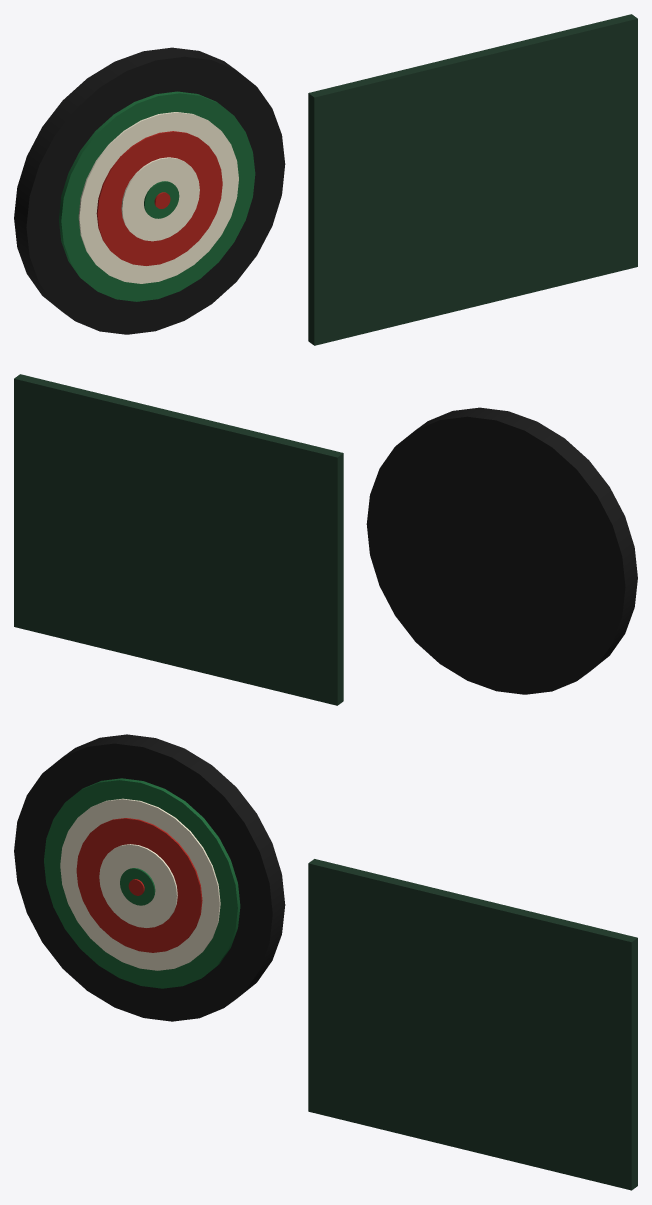
Rendered from dartboard.glb.
3 renders of one model, top to bottom at view 1: azimuth 30°, elevation 25°; view 2: azimuth 150°, elevation 25°; view 3: azimuth 330°, elevation 25°, orthographic.
Visible parts, largest first — view 1: part-chalkboard, part-backing, part-dart-#f0e8d0, part-dart-#1f6a3a, part-dart-#b3261e; view 2: part-chalkboard, part-backing; view 3: part-chalkboard, part-backing, part-dart-#f0e8d0, part-dart-#1f6a3a, part-dart-#b3261e.
Boxes of the visible parts, <box> form: part-chalkboard: <box>308,14,637,345</box>; part-backing: <box>14,47,285,334</box>; part-dart-#f0e8d0: <box>78,112,238,283</box>; part-dart-#1f6a3a: <box>59,91,255,301</box>; part-dart-#b3261e: <box>96,131,222,265</box>; part-chalkboard: <box>14,374,343,705</box>; part-backing: <box>366,407,637,694</box>; part-chalkboard: <box>308,859,637,1190</box>; part-backing: <box>14,734,285,1021</box>; part-dart-#f0e8d0: <box>60,798,220,970</box>; part-dart-#1f6a3a: <box>44,778,240,988</box>; part-dart-#b3261e: <box>76,818,202,952</box>.
Size of the model in its own units: 57 by 29 by 3.15.
